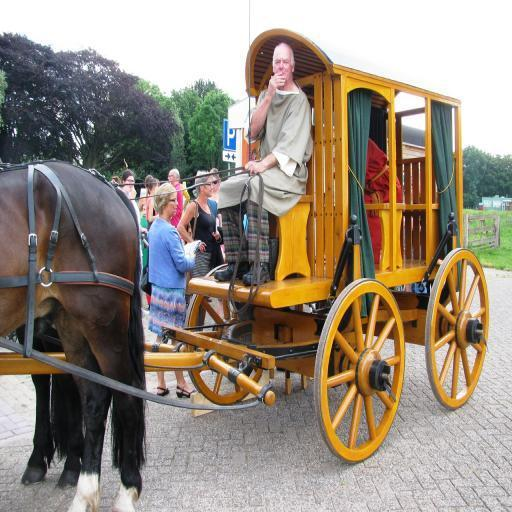horse: (0, 160, 148, 512)
